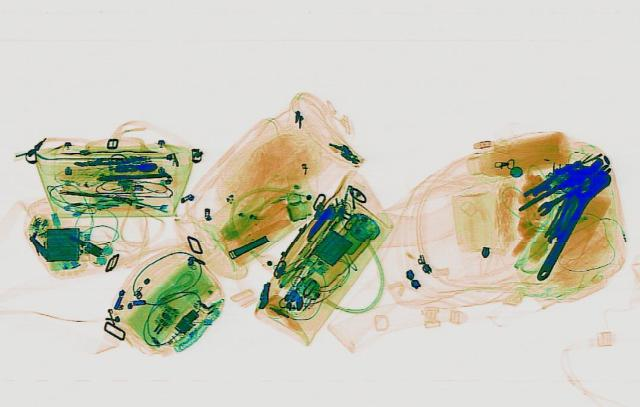Wrench: (523, 166, 615, 281), (529, 180, 589, 215)
